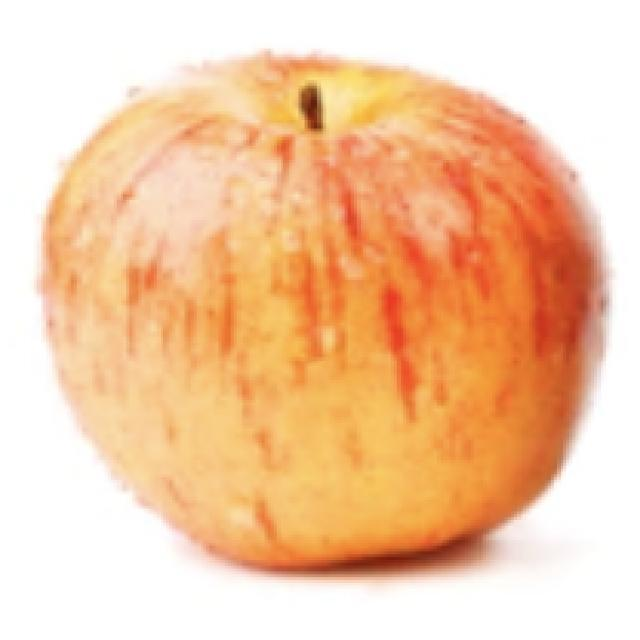Fresh Apple: (50, 35, 593, 560)
